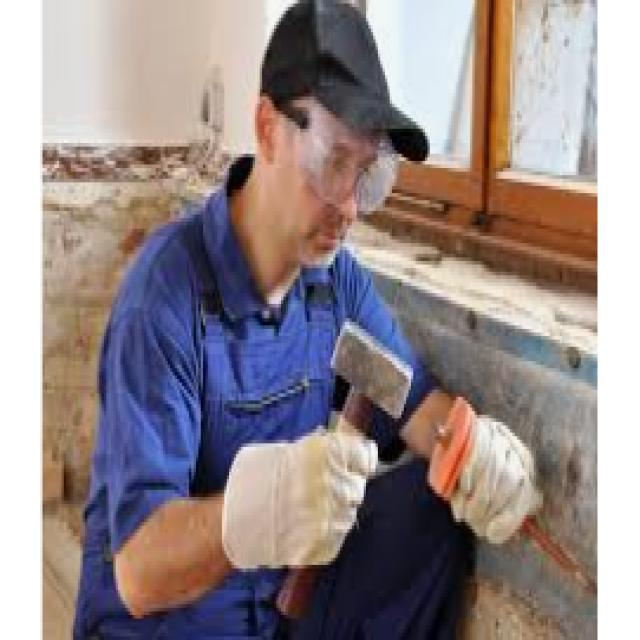glasses: (288, 111, 404, 224)
